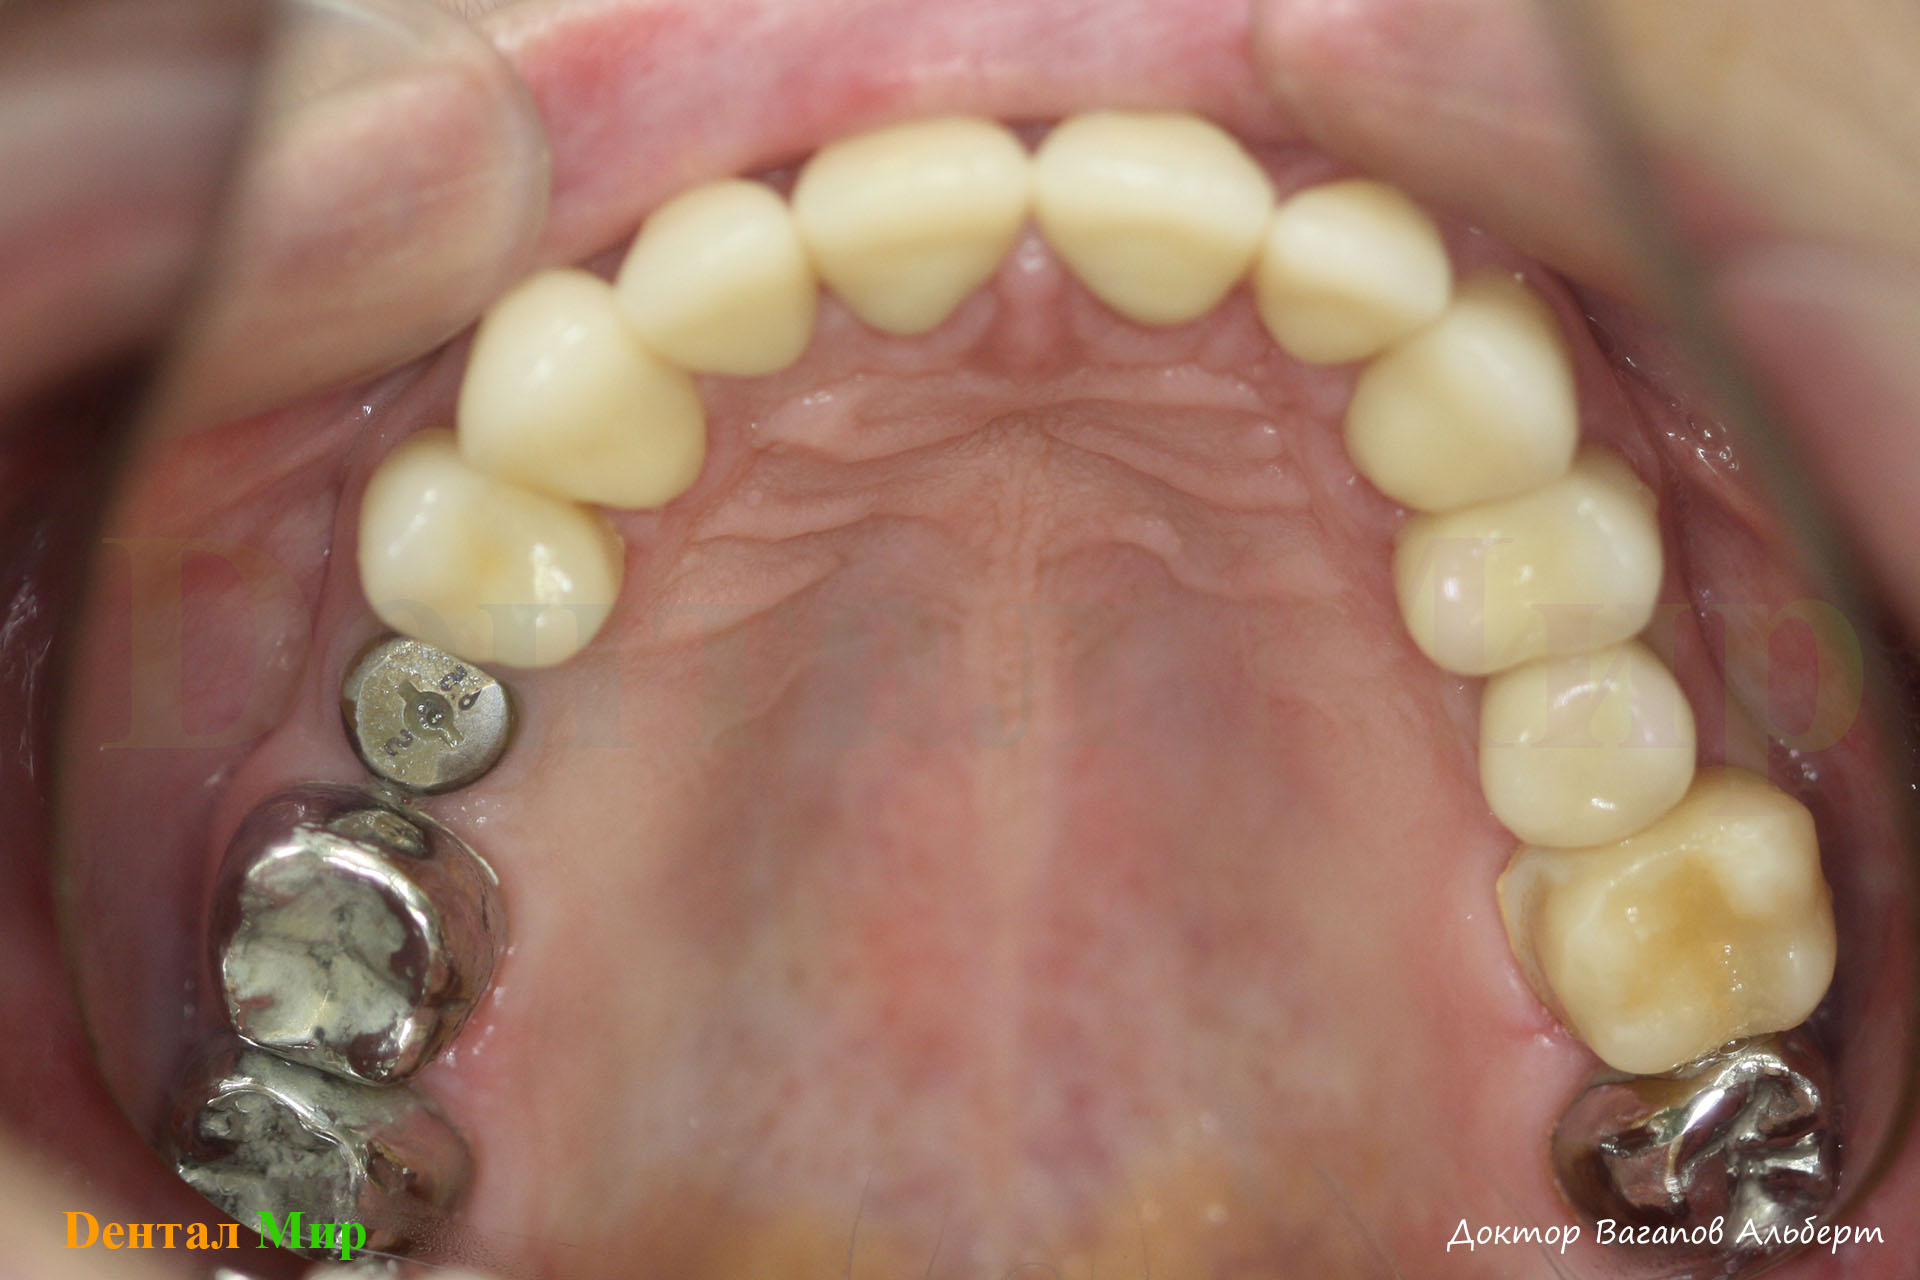UL1BC_healthy: (1394, 486, 1667, 659)
UL1M_healthy: (1534, 821, 1830, 1050)
UL2BC_healthy: (1494, 664, 1696, 829)
UL2M_decay: (1557, 1061, 1851, 1221)
ULCI_healthy: (1036, 111, 1267, 324)
ULC_healthy: (1354, 306, 1576, 499)
ULLI_healthy: (1259, 179, 1451, 356)
UR1BC_healthy: (363, 450, 626, 663)
UR1M_decay: (214, 799, 511, 1077)
UR2M_decay: (176, 1069, 469, 1206)
URCI_healthy: (796, 127, 1034, 331)
URC_healthy: (466, 294, 707, 499)
URLI_healthy: (613, 186, 809, 363)
